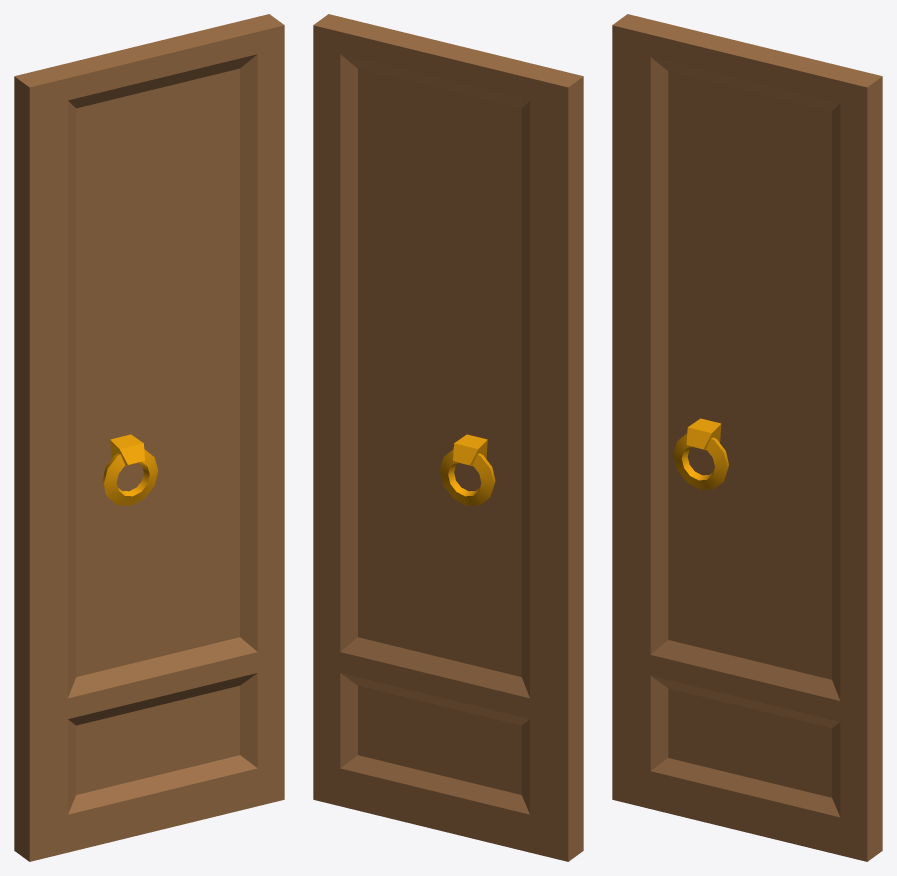
The model's file is SM_Buildings_Mosque_01_Door_R.fbx.
3 renders of one model, left to right at view 1: azimuth 30°, elevation 25°; view 2: azimuth 150°, elevation 25°; view 3: azimuth 330°, elevation 25°, orthographic.
Parts seen in each view (by area): view 1: SM_Buildings_Mosque_01_Door_R; view 2: SM_Buildings_Mosque_01_Door_R; view 3: SM_Buildings_Mosque_01_Door_R.
Part boxes in pixels (x1,y1,x2,y2): SM_Buildings_Mosque_01_Door_R: [14, 14, 284, 861]; SM_Buildings_Mosque_01_Door_R: [313, 14, 583, 861]; SM_Buildings_Mosque_01_Door_R: [612, 14, 882, 861].
Size of the model in its own units: 0.9764 by 2.83 by 0.2611.
